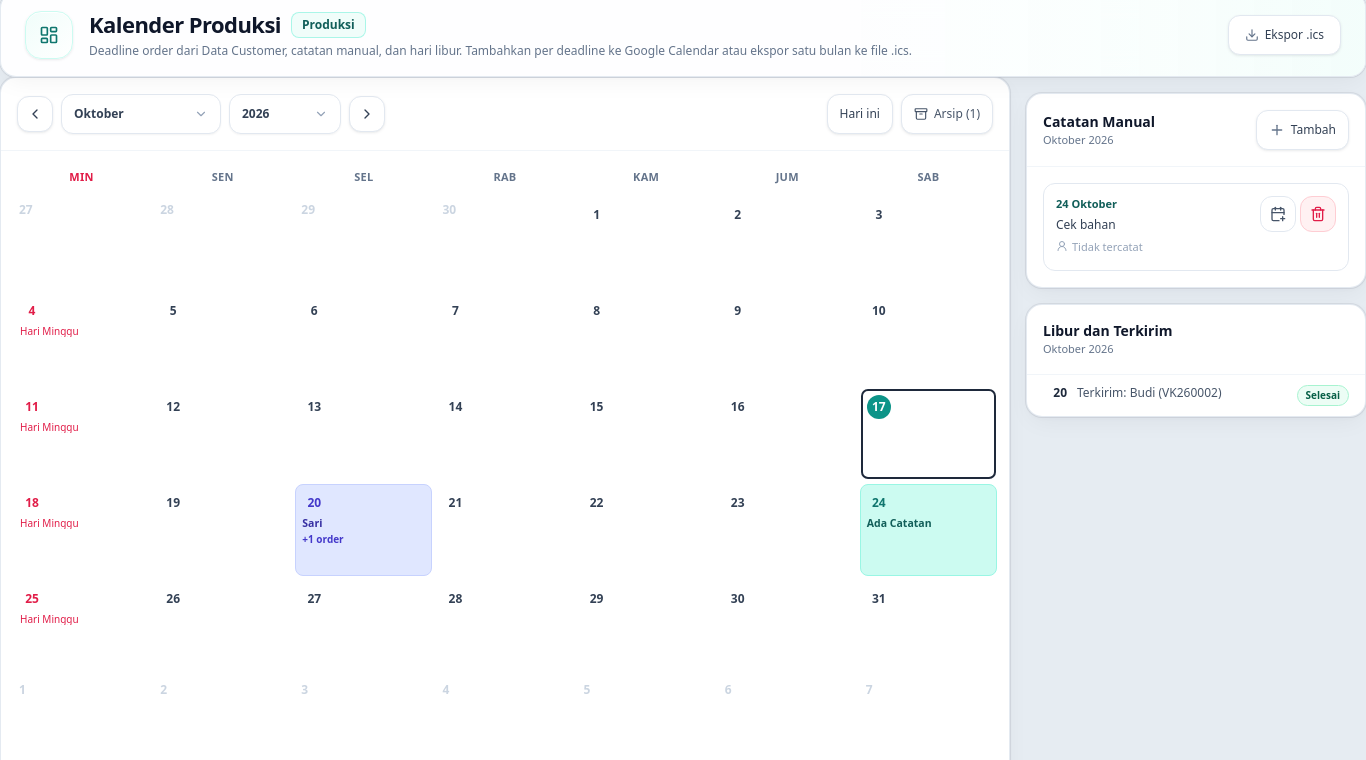
Test case: ProductionCalendar on a wide screen › moves between months with the arrows and the today shortcut
The width and height of the screenshot is (1366, 760).
Click the button named "Bulan berikutnya" at x=367, y=114, box [349,96,385,132]
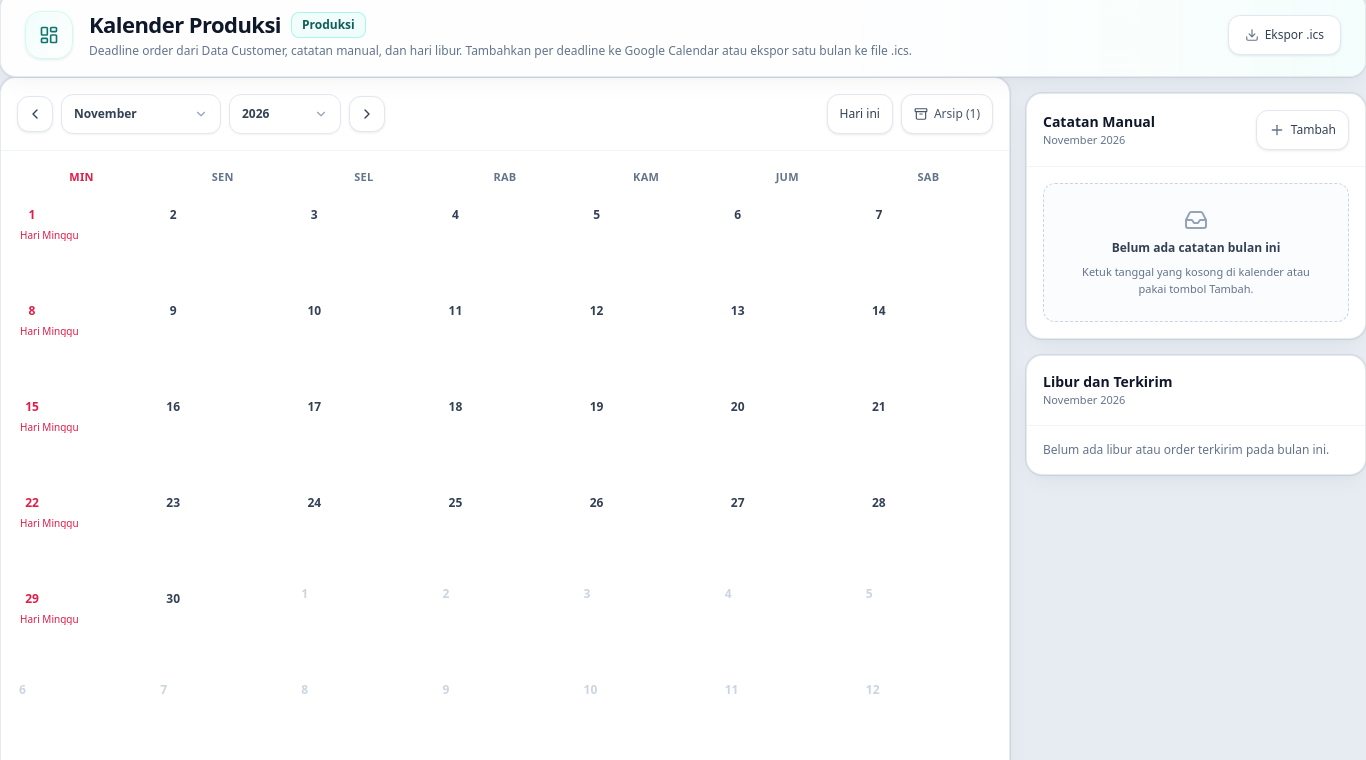
Click the button "Hari ini" at x=860, y=114, box [826,94,893,134]
(page scrolled)
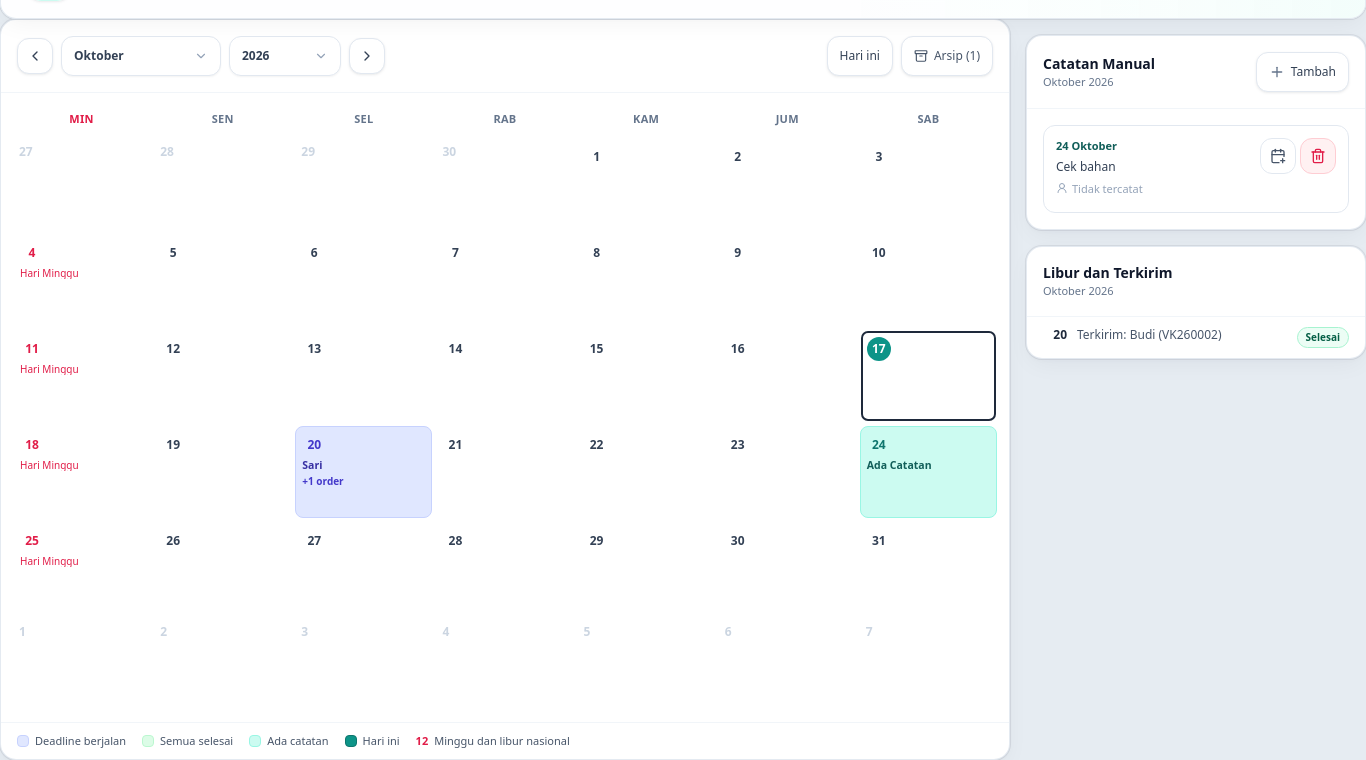
Check: the element named "Kalender Oktober 2026" is shown
